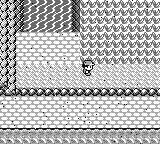captura: (80, 0, 159, 63), (24, 0, 71, 32)
main: (82, 60, 95, 75)
mo: (72, 0, 80, 32), (16, 0, 24, 32)
no-caminable: (1, 130, 160, 143), (0, 0, 16, 96)
salto: (15, 88, 160, 96)
